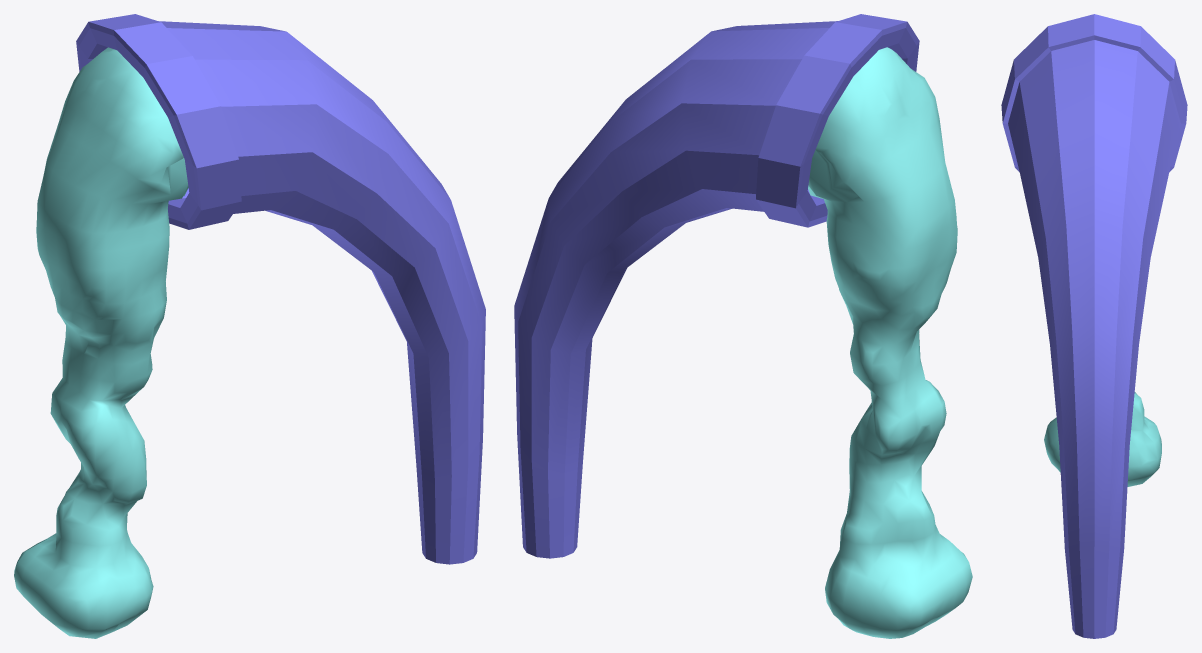
File: waterFlower-model.fbx
The picture shows the model from 3 angles, left to right: view 1: azimuth 30°, elevation 25°; view 2: azimuth 150°, elevation 25°; view 3: azimuth 270°, elevation 25°; orthographic projection. The views are drawn at different scales.
Visible parts, largest first — view 1: waterBase, water; view 2: waterBase, water; view 3: waterBase, water.
Boxes of the visible parts, left/top/right/bottom form: waterBase: left=76, top=14, right=485, bottom=564; water: left=14, top=47, right=188, bottom=638; waterBase: left=514, top=14, right=919, bottom=558; water: left=808, top=47, right=972, bottom=638; waterBase: left=1001, top=14, right=1187, bottom=638; water: left=1044, top=392, right=1161, bottom=486.
Bounding box in the file's own units: 3.17 × 4.16 × 1.45.
